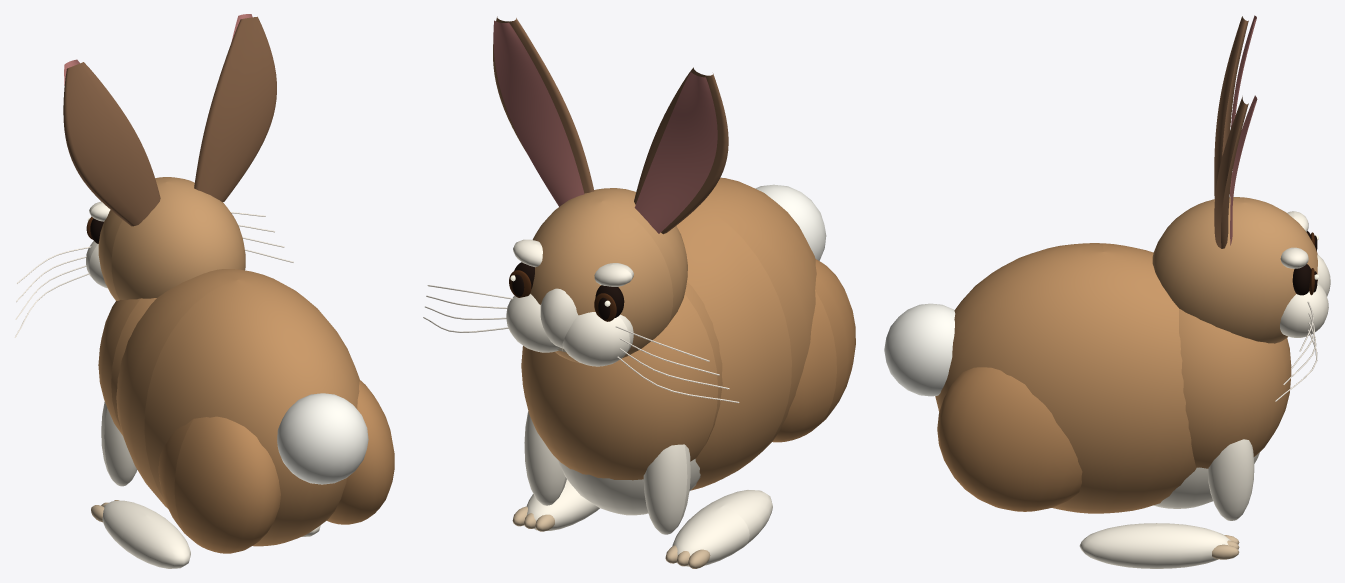
Rendered from hare.glb.
The picture shows the model from 3 angles, left to right: view 1: azimuth 30°, elevation 25°; view 2: azimuth 150°, elevation 25°; view 3: azimuth 270°, elevation 25°; orthographic projection. The views are drawn at different scales.
Visible parts, largest first — view 1: Fur_Torso, Fur_HaunchR, Fur_Head, Fur_EarL, Fur_EarR, Fur_Tail, Fur_HaunchL, Fur_FootR, Fur_Chest, Fur_FrontLegR, Fur_CheekR; view 2: Fur_Torso, Fur_Chest, Fur_Head, InnerEarL, InnerEarR, Fur_HaunchR, Fur_FootR, Fur_FrontLegR, Fur_CheekR, Fur_EarR, Fur_Belly, Fur_EarL (+7 smaller); view 3: Fur_Torso, Fur_Head, Fur_HaunchL, Fur_Chest, Fur_FootL, Fur_Tail, Fur_FrontLegL, Fur_EarL, Fur_EarR, Fur_CheekL, Fur_Belly, InnerEarL.
Part boxes in pixels (<box>): Fur_Torso: <box>116,269,359,546</box>; Fur_HaunchR: <box>158,416,280,553</box>; Fur_Head: <box>98,177,245,300</box>; Fur_EarL: <box>194,16,276,202</box>; Fur_EarR: <box>63,62,160,226</box>; Fur_Tail: <box>277,393,368,484</box>; Fur_HaunchL: <box>327,380,394,524</box>; Fur_FootR: <box>102,500,190,568</box>; Fur_Chest: <box>98,298,156,435</box>; Fur_FrontLegR: <box>101,401,137,486</box>; Fur_CheekR: <box>86,241,107,288</box>; Fur_Torso: <box>676,177,816,490</box>; Fur_Chest: <box>521,281,722,480</box>; Fur_Head: <box>530,188,687,363</box>; InnerEarL: <box>493,20,584,206</box>; InnerEarR: <box>634,72,717,233</box>; Fur_HaunchR: <box>772,259,855,442</box>; Fur_FootR: <box>672,490,772,566</box>; Fur_FrontLegR: <box>643,444,690,534</box>; Fur_CheekR: <box>562,312,633,366</box>; Fur_EarR: <box>634,67,728,234</box>; Fur_Belly: <box>558,459,700,515</box>; Fur_EarL: <box>493,16,594,193</box>; Fur_Torso: <box>935,243,1196,513</box>; Fur_Head: <box>1152,197,1317,343</box>; Fur_HaunchL: <box>937,367,1082,511</box>; Fur_Chest: <box>1179,309,1291,468</box>; Fur_FootL: <box>1079,523,1230,568</box>; Fur_Tail: <box>884,303,955,396</box>; Fur_FrontLegL: <box>1208,439,1254,520</box>; Fur_EarL: <box>1214,96,1248,248</box>; Fur_EarR: <box>1214,16,1248,198</box>; Fur_CheekL: <box>1280,283,1328,337</box>; Fur_Belly: <box>1153,452,1259,508</box>; InnerEarL: <box>1230,95,1257,245</box>.
Size of the model in its own units: 0.7857 by 1.26 by 1.07.
